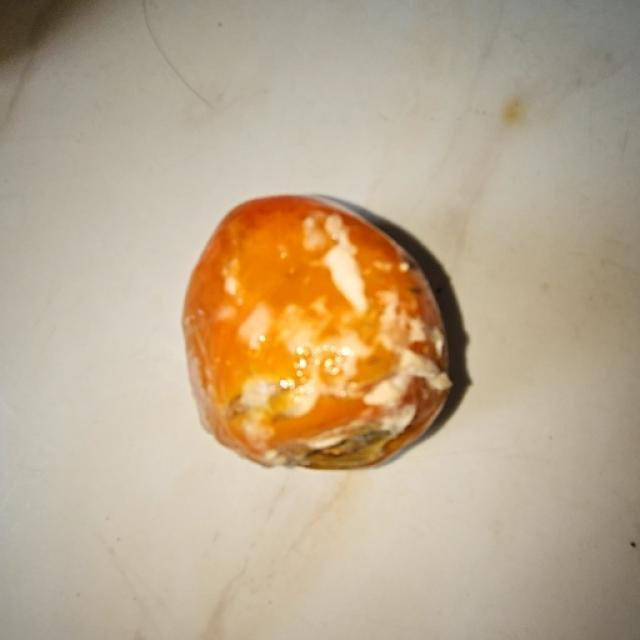Red: (180, 192, 453, 471)
